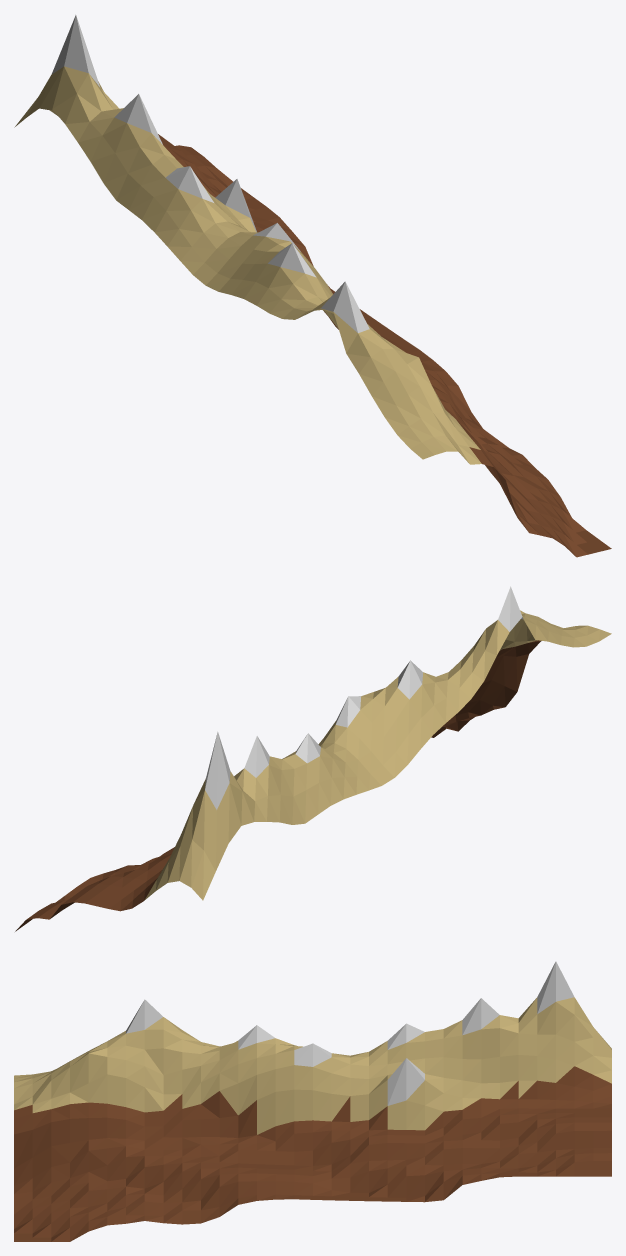
File: mountain_scene.fbx
3 renders of one model, top to bottom at view 1: azimuth 30°, elevation 25°; view 2: azimuth 150°, elevation 25°; view 3: azimuth 270°, elevation 25°, orthographic. The views are drawn at different scales.
Parts seen in each view (by area): view 1: Plane; view 2: Plane; view 3: Plane.
Boxes of the visible parts, x1=… form: Plane: x1=14, y1=15, x2=611, y2=557; Plane: x1=15, y1=586, x2=611, y2=931; Plane: x1=14, y1=961, x2=611, y2=1241.
Size of the model in its own units: 7375 by 11310 by 27624.
